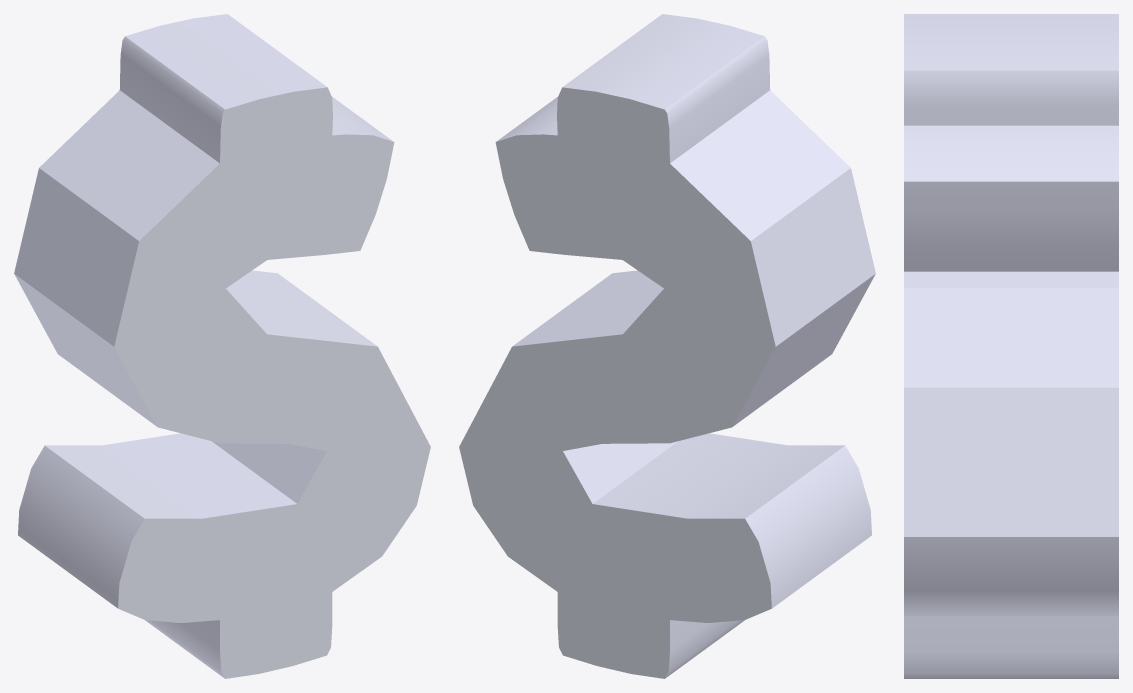
The model's file is symbol$_Zyzol_Grey.glb.
The picture shows the model from 3 angles, left to right: view 1: azimuth 30°, elevation 25°; view 2: azimuth 150°, elevation 25°; view 3: azimuth 270°, elevation 25°; orthographic projection. The views are drawn at different scales.
Visible parts, largest first — view 1: symbol$_Zyzol_Grey; view 2: symbol$_Zyzol_Grey; view 3: symbol$_Zyzol_Grey.
Boxes of the visible parts, bbox=[...] form: symbol$_Zyzol_Grey: bbox=[14, 14, 430, 678]; symbol$_Zyzol_Grey: bbox=[459, 14, 875, 678]; symbol$_Zyzol_Grey: bbox=[904, 14, 1118, 678].
Size of what is drawn, in the model's own units: 0.0821 by 0.1425 by 0.045.
2 materials, 2 textured.
